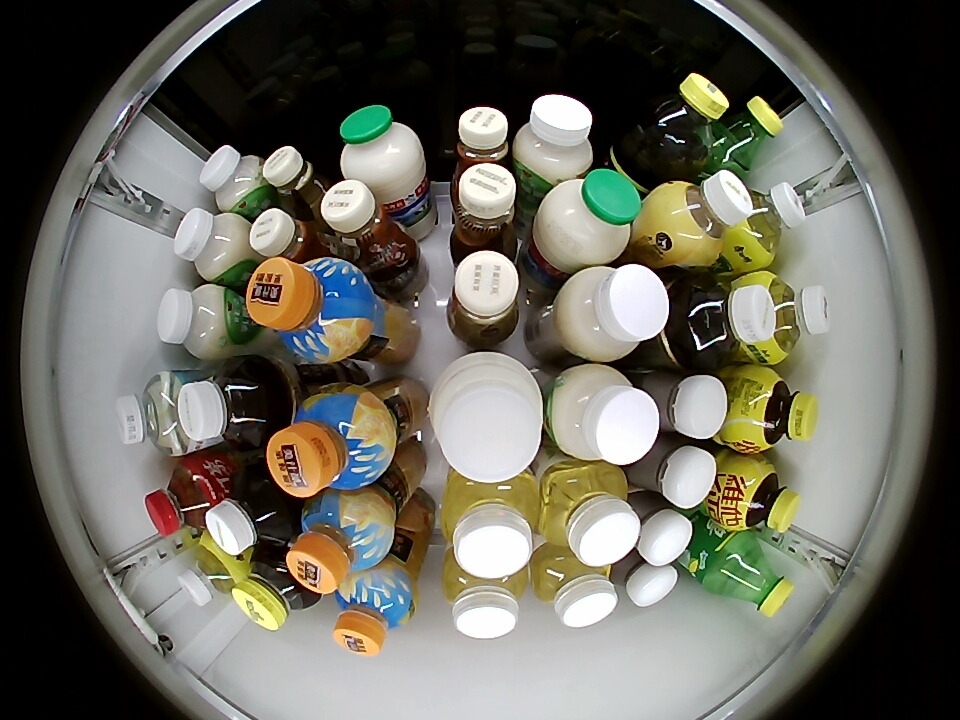asamu: (656, 169, 753, 262)
baishikele: (633, 72, 730, 169)
binghongcha: (144, 457, 221, 537)
bingtangxueli: (754, 270, 831, 363), (734, 182, 806, 263), (178, 535, 246, 607)
chacui: (233, 547, 320, 630)
chapai2: (441, 466, 540, 579), (540, 461, 639, 567), (443, 552, 528, 639), (530, 545, 617, 628)
guolicheng: (266, 385, 395, 497), (246, 257, 374, 363), (288, 488, 395, 594), (333, 567, 417, 655)
kafei: (319, 180, 412, 275), (447, 250, 522, 346), (449, 162, 520, 261), (263, 146, 337, 219), (249, 208, 332, 266), (456, 107, 509, 174)
liziyuan: (533, 168, 641, 270), (338, 104, 427, 201)
qinningshui: (115, 371, 192, 456)
weitaningmeng-bottle: (737, 368, 818, 452), (724, 458, 801, 535)
wulongcha: (682, 273, 776, 366), (176, 362, 271, 451), (205, 466, 296, 556)
xuebi-b: (712, 539, 794, 618), (710, 96, 783, 170)
yingyangkuaixian: (429, 352, 544, 482)
yousuanru: (553, 264, 669, 363), (547, 364, 659, 466), (512, 94, 596, 185), (157, 284, 237, 359), (173, 208, 251, 284), (200, 145, 270, 215)
youyanggudong: (635, 437, 717, 508), (654, 371, 728, 439), (631, 498, 693, 566), (614, 554, 680, 607)
